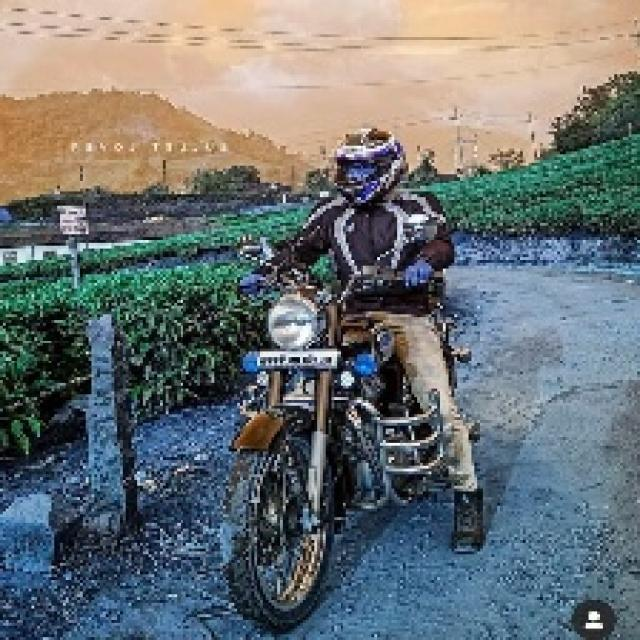bike: (232, 257, 446, 628)
